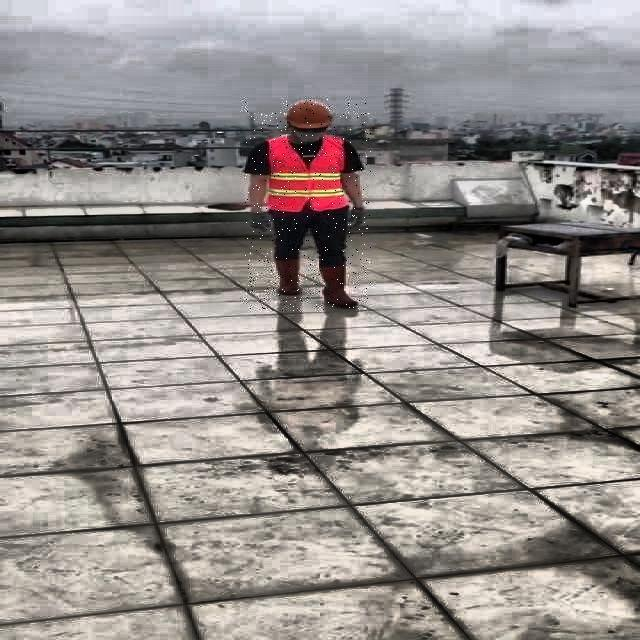safety_helmet: (284, 100, 334, 130)
safety_jacket: (265, 136, 348, 212)
